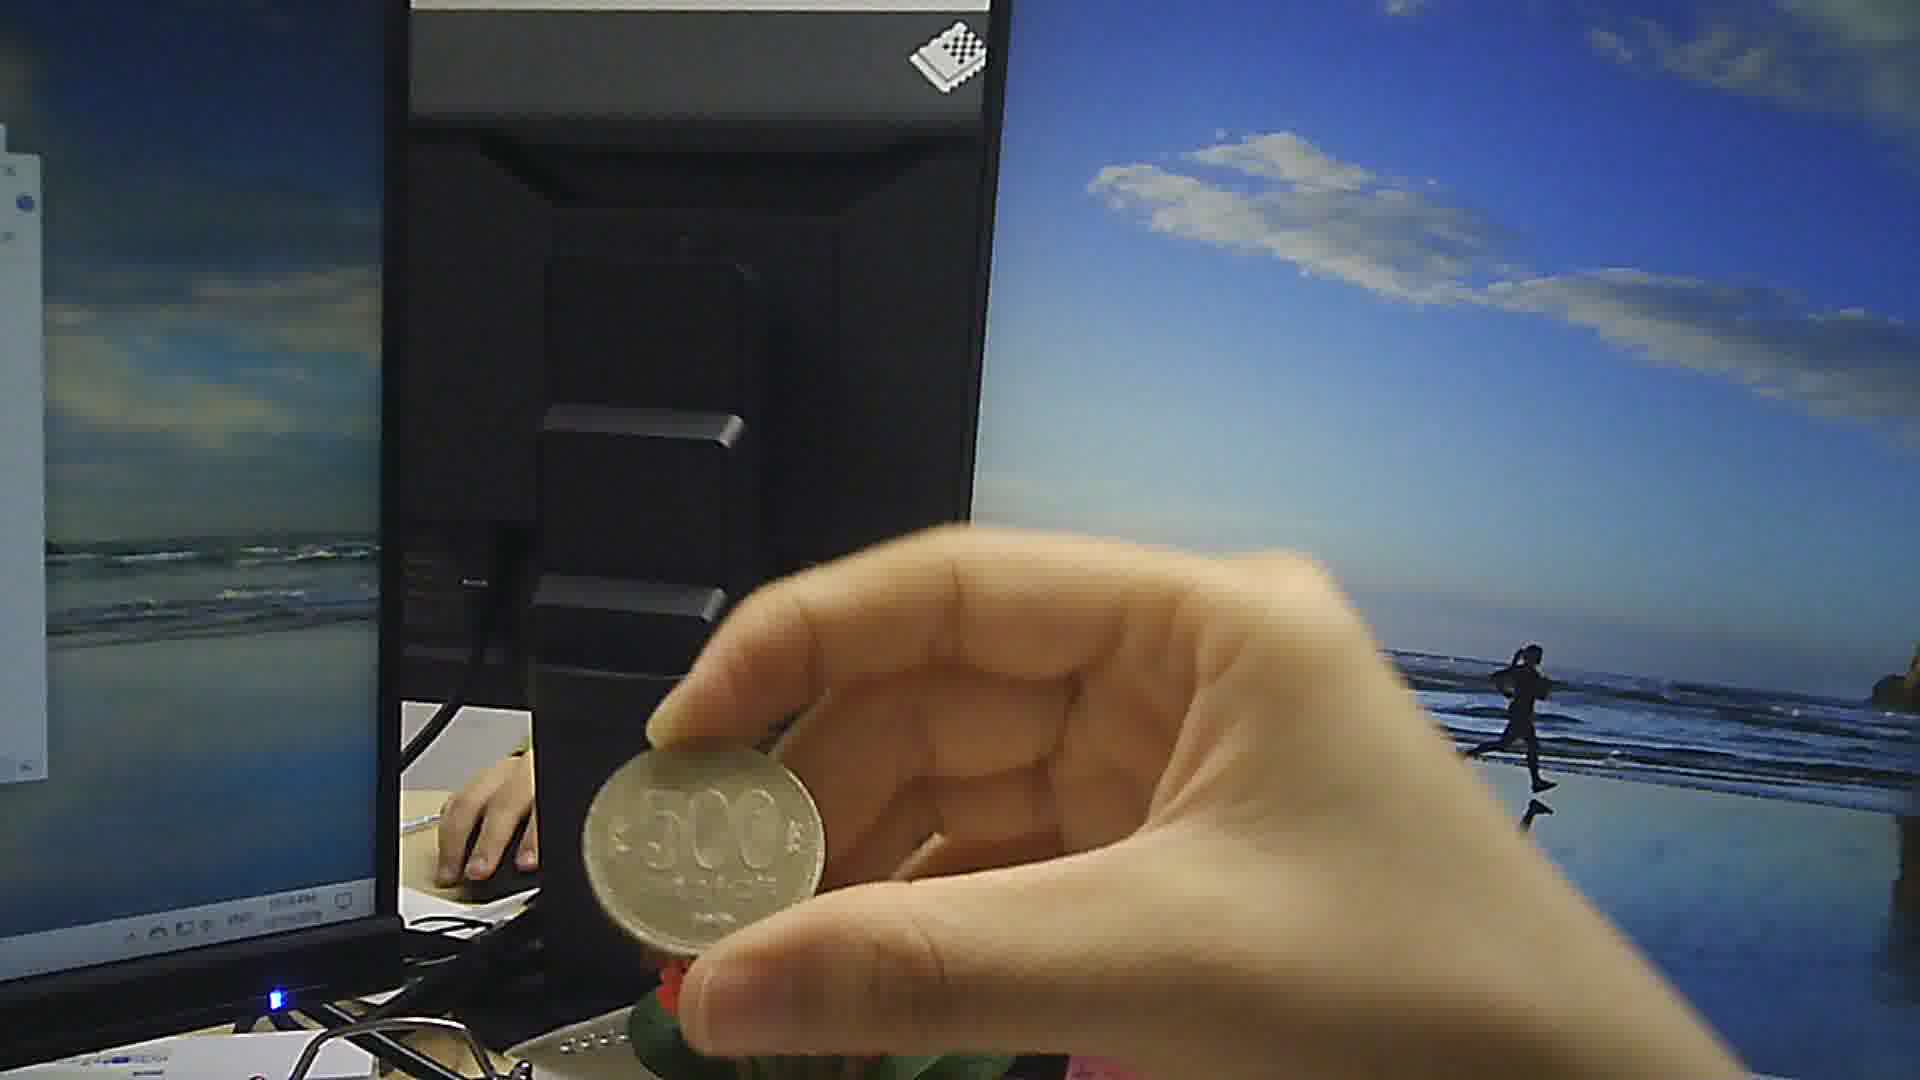500 Yen: (578, 724, 829, 965)
